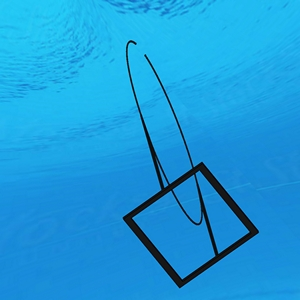circle: (119, 39, 262, 290)
